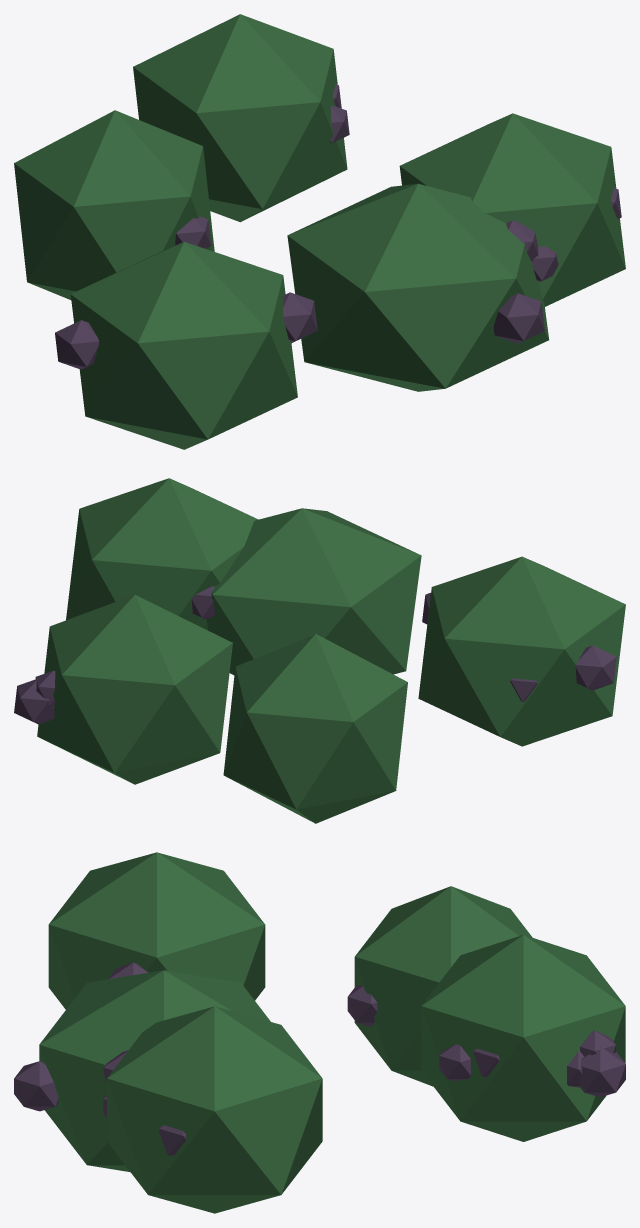
Rendered from berry_patch_black.glb.
3 views of the same model, one above another, from view 1: azimuth 30°, elevation 25°; view 2: azimuth 150°, elevation 25°; view 3: azimuth 270°, elevation 25° (orthographic). The views are drawn at different scales.
Parts seen in each view (by area): view 1: berry_patch_black; view 2: berry_patch_black; view 3: berry_patch_black.
Part boxes in pixels (left/top/right/bottom): berry_patch_black: left=14, top=14, right=625, bottom=449; berry_patch_black: left=14, top=478, right=625, bottom=823; berry_patch_black: left=14, top=852, right=625, bottom=1213.
Size of the model in its own units: 0.5723 by 0.2354 by 0.5349.
